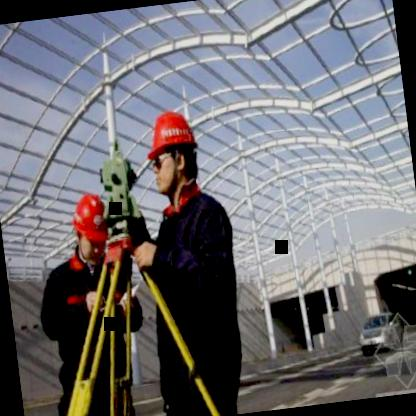helmet: (138, 105, 206, 204), (65, 186, 115, 270)
